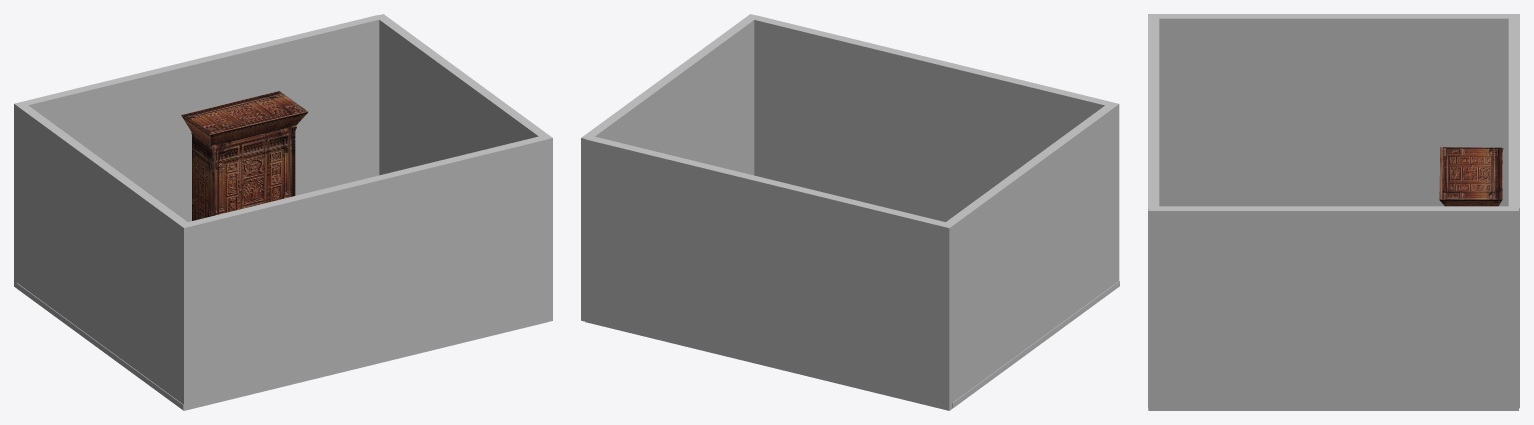
Rendered from Raum.FBX.
The picture shows the model from 3 angles, left to right: view 1: azimuth 30°, elevation 25°; view 2: azimuth 150°, elevation 25°; view 3: azimuth 270°, elevation 25°; orthographic projection. The views are drawn at different scales.
Visible parts, largest first — view 1: Box083, Box082, Box084, Box085, BODY01, Box54, Line18, Box081; view 2: Box082, Box083, Box084, Box085, Box081; view 3: Box085, Box084, Box54, Box083, Box082.
Boxes of the visible parts, left/top/right/bottom form: Box083: left=179, top=136, right=548, bottom=410; Box082: left=14, top=15, right=382, bottom=286; Box084: left=15, top=104, right=190, bottom=403; Box085: left=375, top=14, right=552, bottom=321; BODY01: left=192, top=130, right=291, bottom=220; Box54: left=181, top=91, right=307, bottom=146; Line18: left=217, top=132, right=290, bottom=214; Box081: left=16, top=283, right=549, bottom=410; Box082: left=585, top=135, right=953, bottom=410; Box083: left=751, top=15, right=1119, bottom=280; Box084: left=943, top=103, right=1118, bottom=409; Box085: left=581, top=14, right=756, bottom=321; Box081: left=952, top=281, right=1119, bottom=408; Box085: left=1148, top=206, right=1518, bottom=410; Box084: left=1150, top=14, right=1516, bottom=206; Box54: left=1439, top=147, right=1503, bottom=206; Box083: left=1148, top=14, right=1159, bottom=407; Box082: left=1508, top=14, right=1519, bottom=408.
Bounding box in the file's own units: 643 × 304 × 512.
